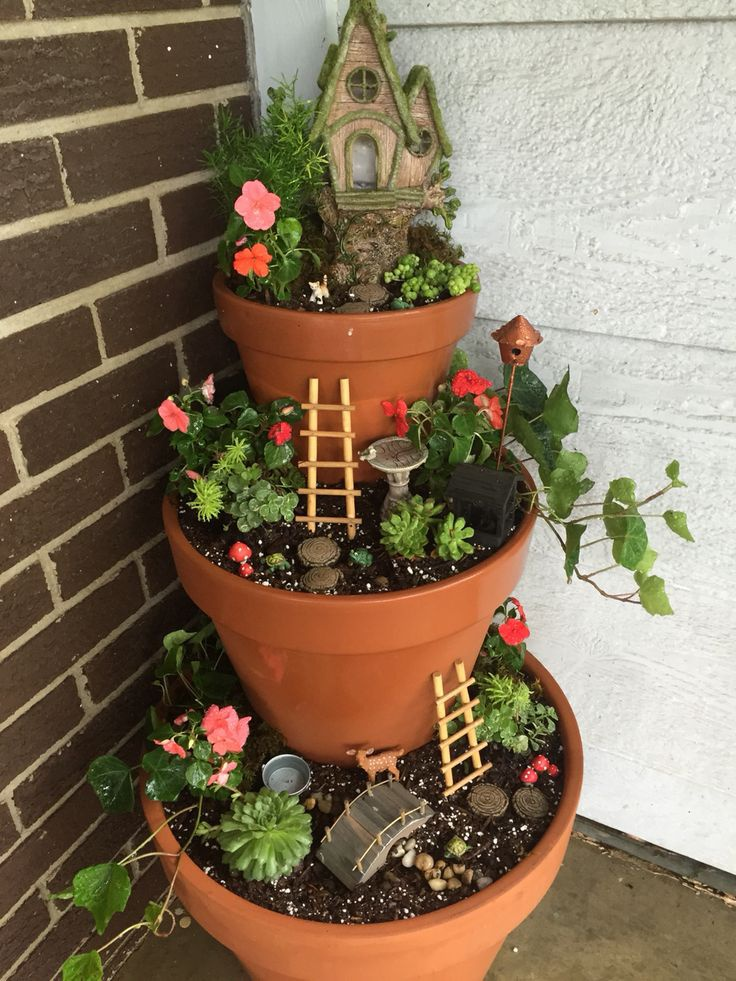flowerpot: (169, 481, 536, 765), (133, 767, 588, 981), (221, 263, 480, 492)
